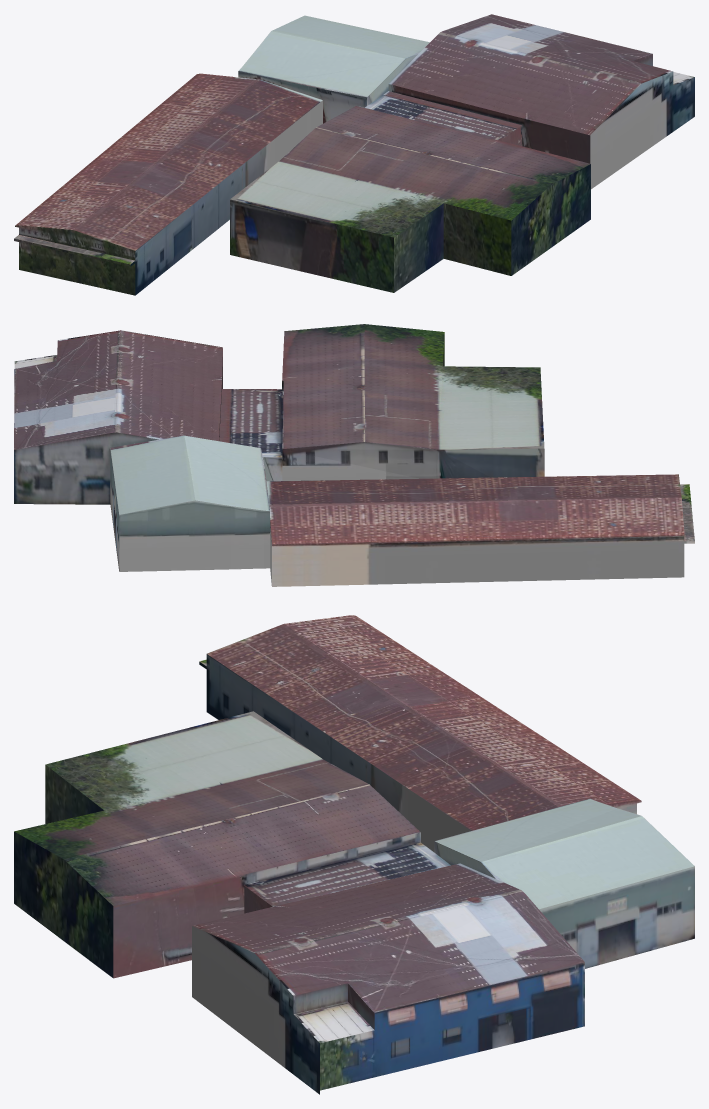
3 renders of one model, top to bottom at view 1: azimuth 30°, elevation 25°; view 2: azimuth 150°, elevation 25°; view 3: azimuth 270°, elevation 25°, orthographic. The views are drawn at different scales.
Parts seen in each view (by area): view 1: B292504041501062A0; view 2: B292504041501062A0; view 3: B292504041501062A0.
Part boxes in pixels (x1,y1,x2,y2): B292504041501062A0: [14, 14, 694, 295]; B292504041501062A0: [14, 324, 694, 586]; B292504041501062A0: [14, 615, 694, 1094].
Size of the model in its own units: 81.44 by 8.18 by 54.97.
1 material, 1 textured.
